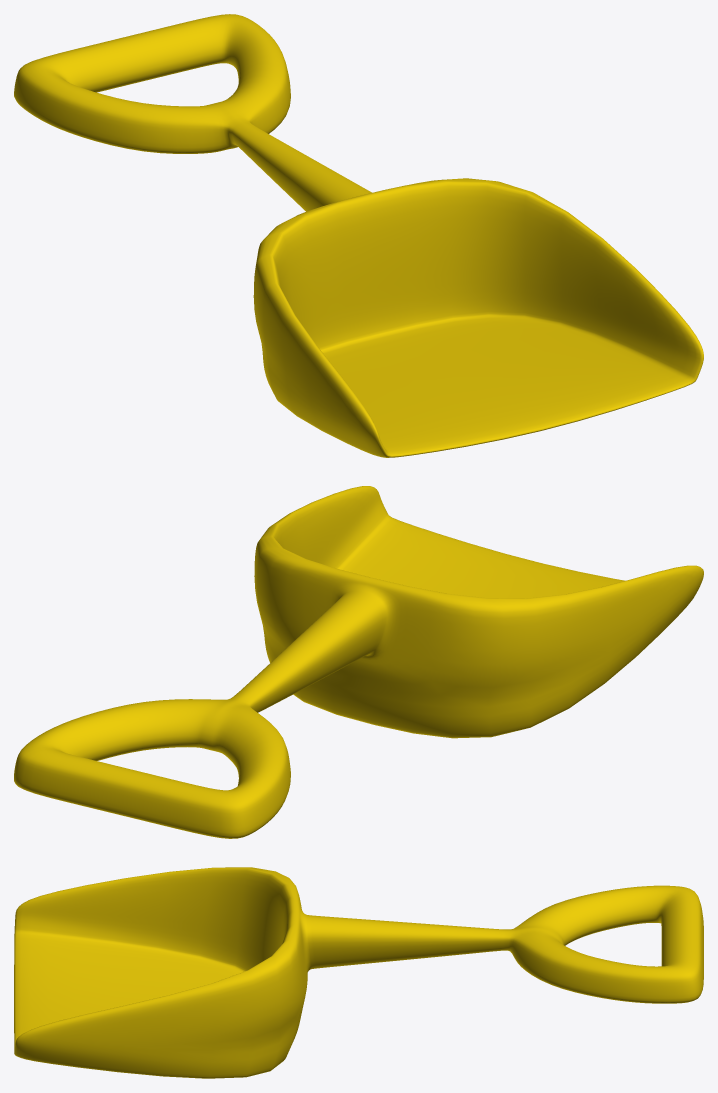
File: shovel.fbx
3 views of the same model, one above another, from view 1: azimuth 30°, elevation 25°; view 2: azimuth 150°, elevation 25°; view 3: azimuth 270°, elevation 25° (orthographic). The views are drawn at different scales.
Visible parts, largest first — view 1: pa; view 2: pa; view 3: pa.
Part boxes in pixels (bbox=[...]): pa: bbox=[14, 14, 703, 457]; pa: bbox=[14, 486, 703, 838]; pa: bbox=[14, 867, 703, 1078].
Bounding box in the file's own units: 360 × 153 × 780.
